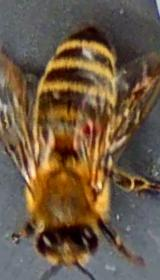varroa_mite: (72, 110, 108, 144)
